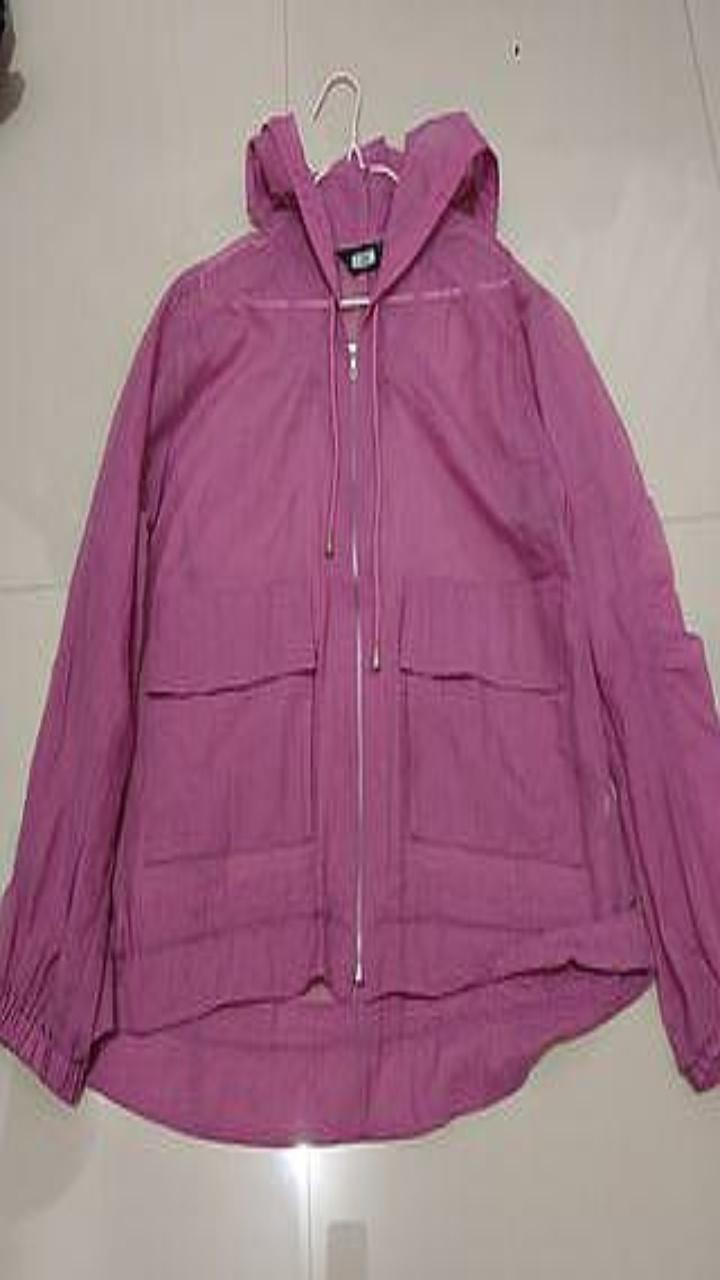Sports_Jacket: (0, 110, 719, 1144)
